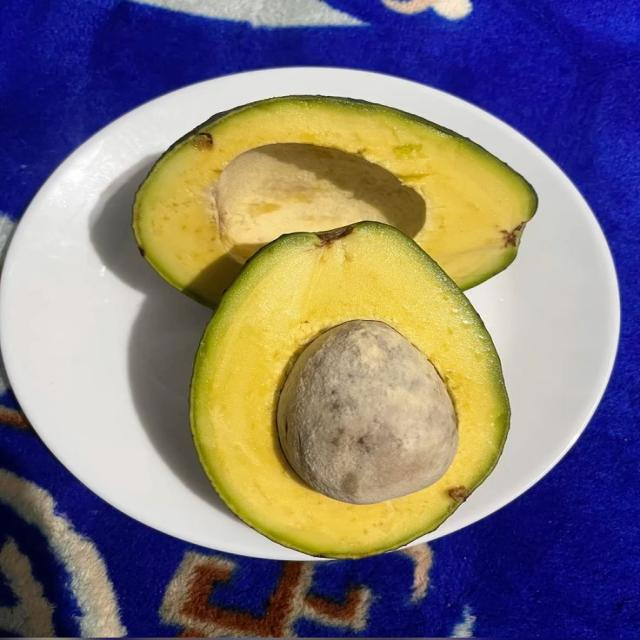avocado: (191, 222, 509, 557), (134, 96, 537, 306)
